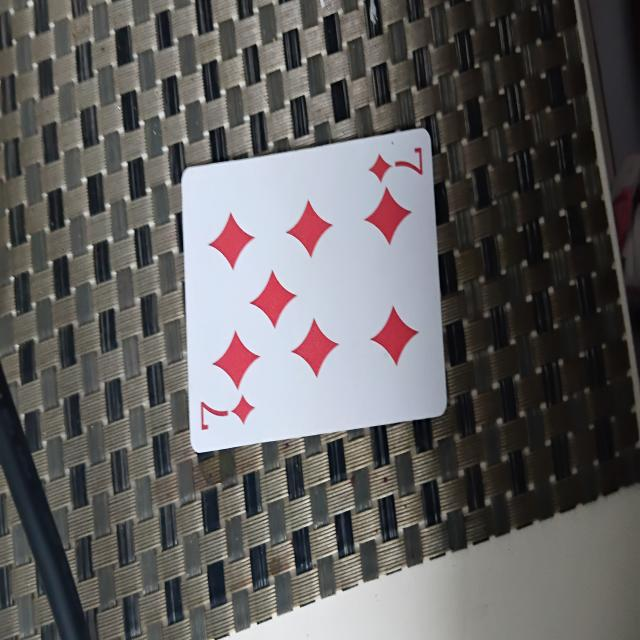7D: (182, 125, 449, 449)
